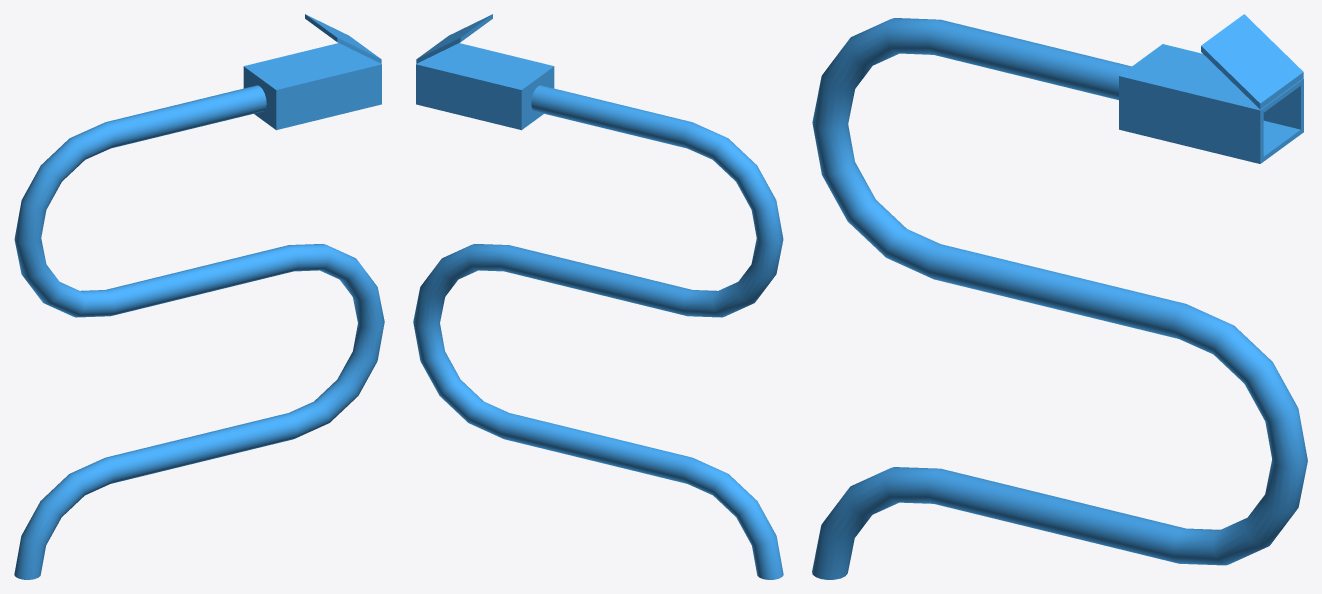
Rendered from NetLine.obj.
The picture shows the model from 3 angles, left to right: view 1: azimuth 30°, elevation 25°; view 2: azimuth 150°, elevation 25°; view 3: azimuth 330°, elevation 25°; orthographic projection. The views are drawn at different scales.
Parts seen in each view (by area): view 1: NetLine; view 2: NetLine; view 3: NetLine.
Boxes of the visible parts, x1,y1,x2,y2 form: NetLine: [14, 14, 384, 579]; NetLine: [413, 14, 783, 579]; NetLine: [812, 14, 1307, 579].
Size of the model in its own units: 0.6497 by 0.8067 by 0.1003.
